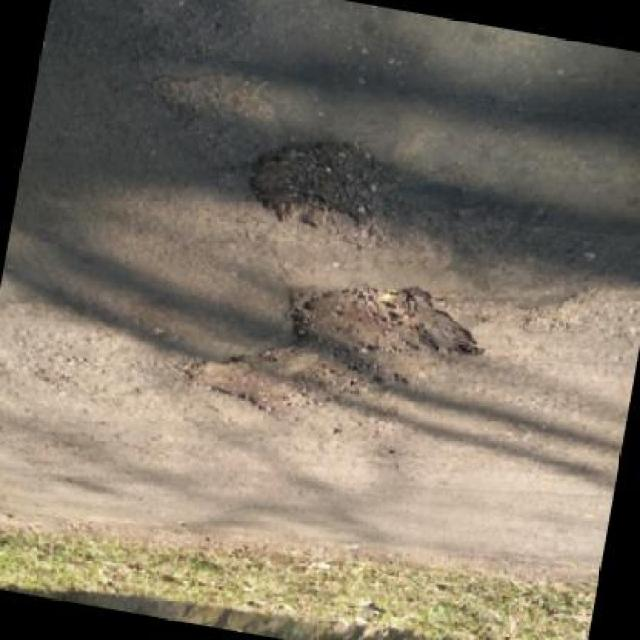pothole: (176, 254, 467, 454), (237, 123, 408, 246)
